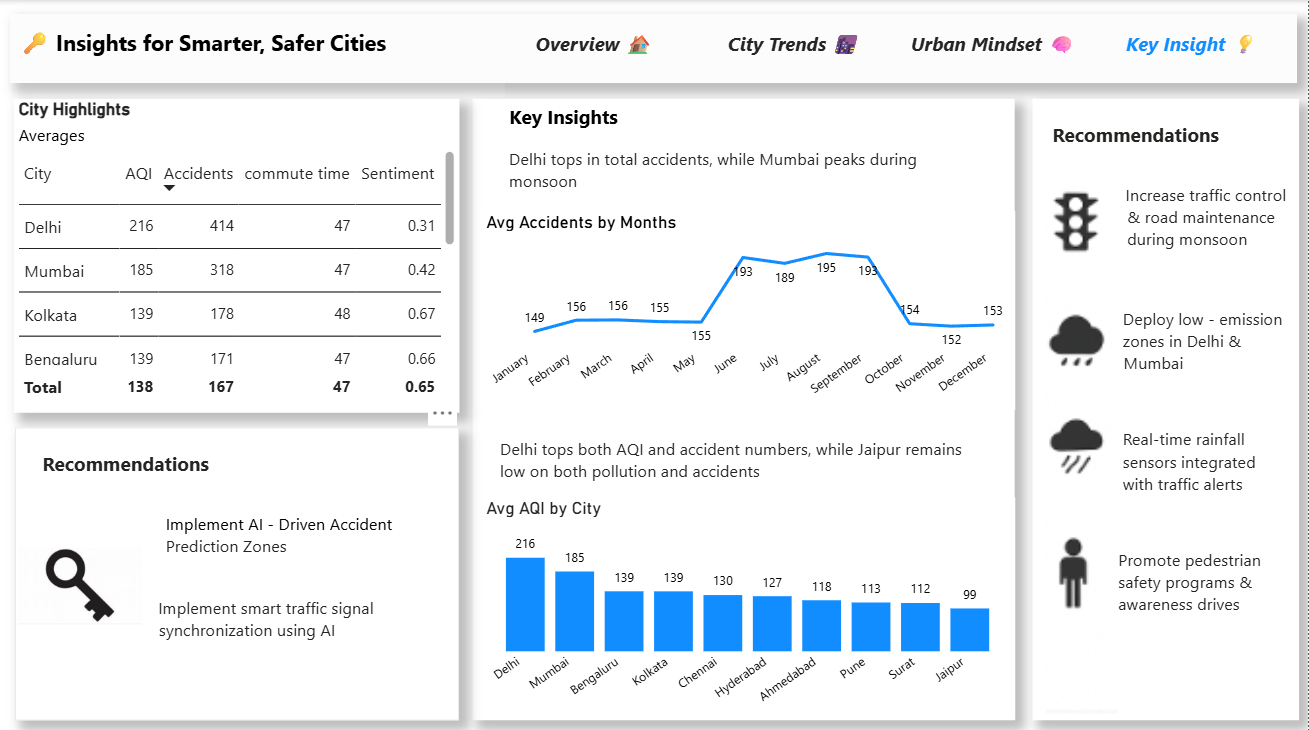

Layout of this report page (visuals, bound fields, positions):
{"tool":"powerbi","page":{"name":"Key Insight 💡","canvas":[1280,720],"ordinal":3},"visuals":[{"type":"shape","box":[9.9,13.6,1259.3,67.9],"z":0},{"type":"textbox","box":[462.2,96.6,530.7,607.7],"z":1000},{"type":"pivotTable","title":"City Highlights","fields":{"Rows":["Data.City"],"Values":["Data.Avg AQI","Data.Avg Accidents","Data.Avg commute time","Avg(Data.Public_Sentiment)"]},"box":[13.6,96.3,435.8,307.4],"z":2000},{"type":"lineChart","title":"Avg Accidents by Months","fields":{"Category":["Date Table.Month Name"],"Y":["Data.Avg Accidents"]},"box":[470.8,206.7,522.1,194.4],"z":3000},{"type":"clusteredColumnChart","fields":{"Category":["Data.City"],"Y":["Data.Avg AQI"]},"box":[470.8,486.7,522.1,217.7],"z":4000},{"type":"textbox","box":[1010.1,96.6,260.5,607.7],"z":5000},{"type":"textbox","box":[14.8,418.5,434.6,286.4],"z":6000},{"type":"image","box":[13.6,509.9,130.9,125.9],"z":7000},{"type":"pageNavigator","box":[482.7,13.6,781.5,59.3],"z":8000},{"type":"textbox","box":[14.8,22.2,479,74.1],"z":9000},{"type":"image","box":[908.6,177.3,299.6,527],"z":10000}]}

Visuals, with their boxes in screenshot pixels (x1, y1, x2, y2), scaled from the page's 1280x720 canvas onto the 1309x730 screenshot:
shape: Rect(10, 14, 1298, 83)
textbox: Rect(473, 98, 1015, 714)
"City Highlights" pivotTable: Rect(14, 98, 460, 409)
"Avg Accidents by Months" lineChart: Rect(481, 210, 1015, 407)
clusteredColumnChart - Data.City x Data.Avg AQI: Rect(481, 493, 1015, 714)
textbox: Rect(1033, 98, 1299, 714)
textbox: Rect(15, 424, 460, 715)
image: Rect(14, 517, 148, 645)
pageNavigator: Rect(494, 14, 1293, 74)
textbox: Rect(15, 23, 505, 98)
image: Rect(929, 180, 1236, 714)
